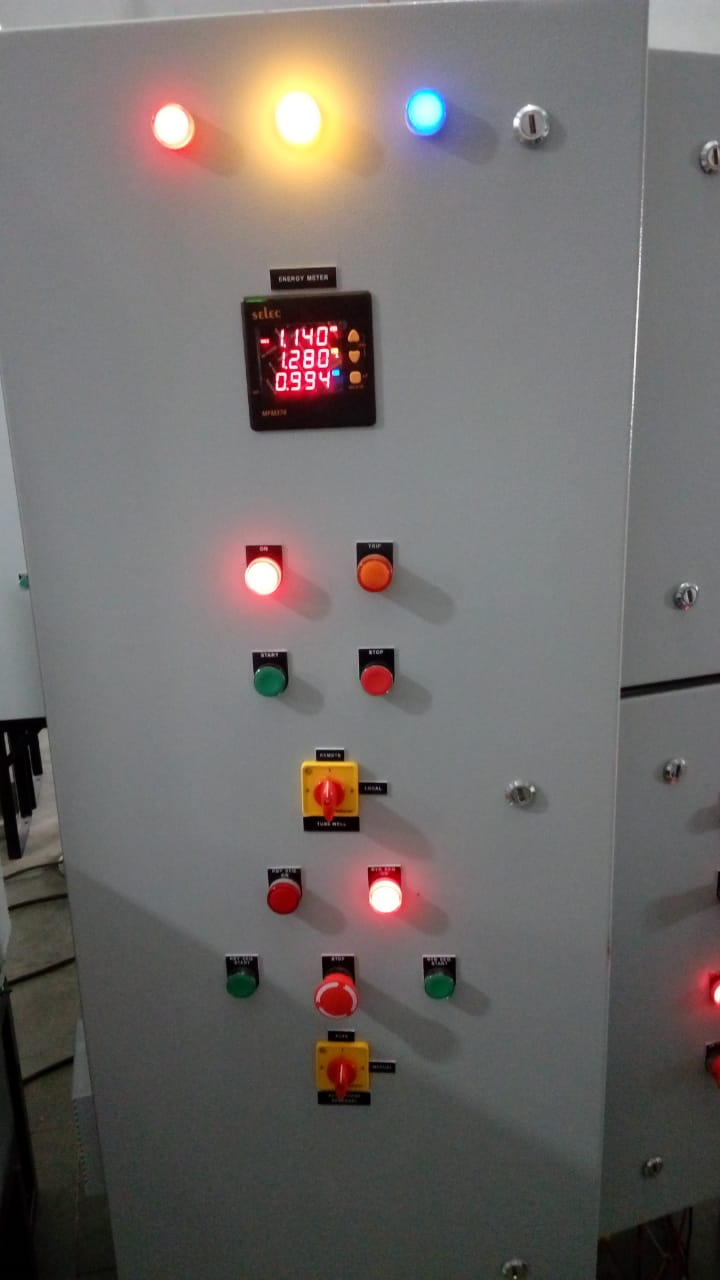Blue_Led_On: (390, 75, 464, 155)
Green_Led_Off: (228, 643, 322, 720), (402, 946, 485, 1021), (204, 942, 281, 1018)
Orange_Led_Off: (340, 523, 422, 617)
Red_Led_Off: (247, 852, 327, 930), (349, 638, 414, 717)
Red_Led_On: (228, 527, 304, 617), (138, 88, 211, 167), (356, 853, 427, 934)
Yellow_Led_On: (253, 67, 356, 170)
